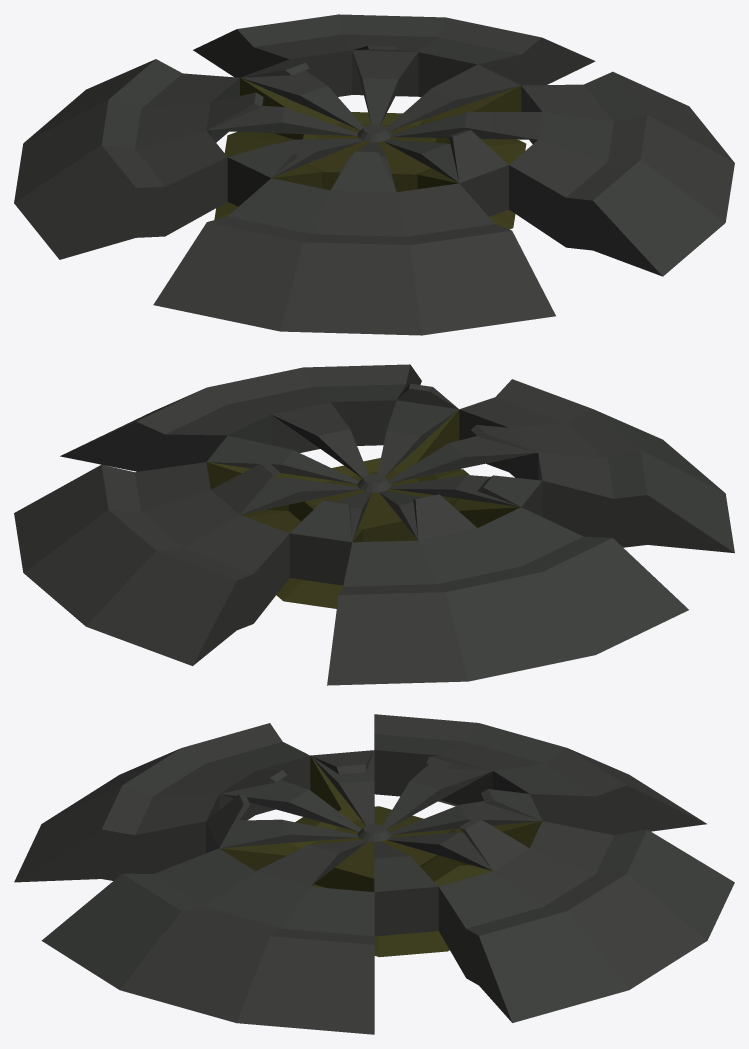
Rendered from Trap.fbx.
The picture shows the model from 3 angles, top to bottom: view 1: azimuth 30°, elevation 25°; view 2: azimuth 150°, elevation 25°; view 3: azimuth 270°, elevation 25°; orthographic projection.
Parts seen in each view (by area): view 1: TrapBase, TrapClosed, TrapOpen; view 2: TrapBase, TrapClosed, TrapOpen; view 3: TrapBase, TrapClosed, TrapOpen.
Part boxes in pixels (x1=…): TrapBase: x1=14, y1=14, x2=734, y2=335; TrapClosed: x1=207, y1=50, x2=539, y2=190; TrapOpen: x1=206, y1=46, x2=542, y2=192; TrapBase: x1=14, y1=364, x2=734, y2=685; TrapClosed: x1=207, y1=400, x2=537, y2=541; TrapOpen: x1=211, y1=383, x2=541, y2=542; TrapBase: x1=14, y1=714, x2=734, y2=1034; TrapClosed: x1=219, y1=750, x2=541, y2=891; TrapOpen: x1=206, y1=750, x2=542, y2=886.
Bounding box in the file's own units: 66.04 × 9.63 × 66.04.
